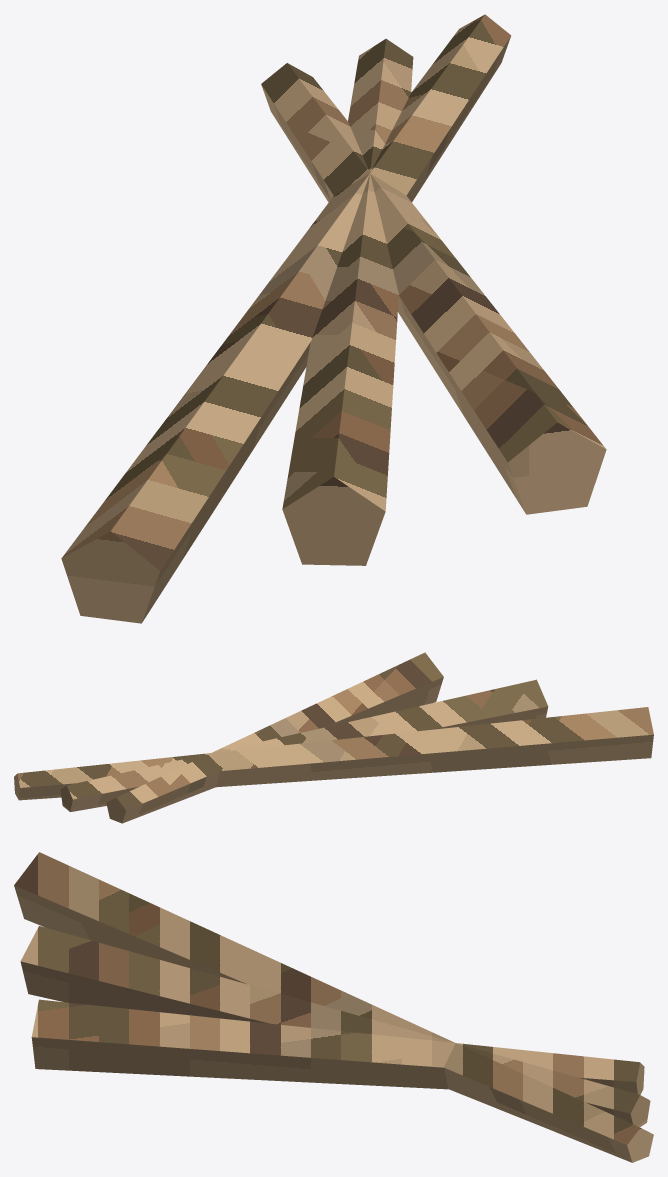
File: enfeite_raiz_chao.glb
The picture shows the model from 3 angles, top to bottom: view 1: azimuth 30°, elevation 25°; view 2: azimuth 150°, elevation 25°; view 3: azimuth 270°, elevation 25°; orthographic projection. The views are drawn at different scales.
Visible parts, largest first — view 1: deserto_enfeite_raiz_chao; view 2: deserto_enfeite_raiz_chao; view 3: deserto_enfeite_raiz_chao.
Boxes of the visible parts, x1,y1,x2,y2 form: deserto_enfeite_raiz_chao: (61, 14, 606, 623); deserto_enfeite_raiz_chao: (14, 652, 653, 823); deserto_enfeite_raiz_chao: (14, 852, 653, 1162).
Bounding box in the file's own units: 0.3489 × 0.0344 × 0.3301.
Materials: 1 (1 with a texture image).
